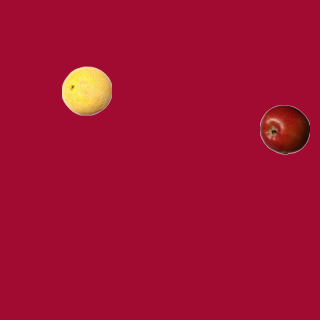Apple Braeburn: (259, 104, 309, 154)
Cantaloupe 1: (61, 65, 111, 115)
